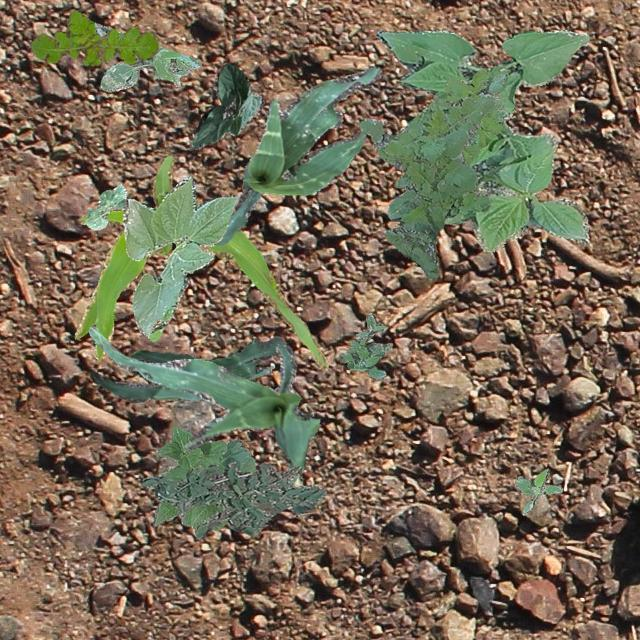crop: (74, 154, 328, 368), (376, 28, 588, 250), (88, 326, 318, 484), (216, 66, 380, 244), (121, 176, 236, 340), (89, 336, 278, 402), (153, 426, 255, 530), (190, 62, 264, 148), (84, 182, 126, 228)
weed: (358, 94, 493, 278), (140, 460, 326, 538), (92, 21, 200, 90), (29, 8, 158, 64), (446, 68, 506, 164), (338, 312, 392, 378), (514, 468, 562, 514)
